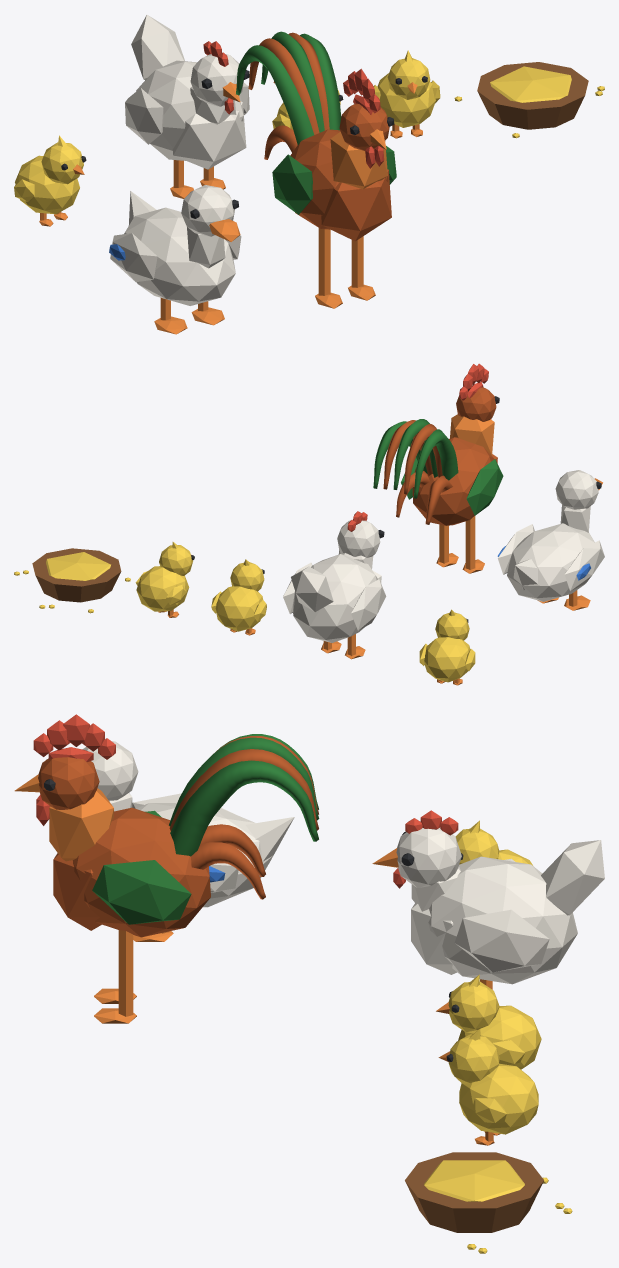
File: low-poly-farm-birds.glb
3 views of the same model, one above another, from view 1: azimuth 30°, elevation 25°; view 2: azimuth 150°, elevation 25°; view 3: azimuth 270°, elevation 25° (orthographic). The views are drawn at different scales.
Visible parts, largest first — view 1: Rooster, Hen, Duck, FeedDish, Chick_A, Chick_B; view 2: Rooster, Hen, Duck, FeedDish, Chick_A, Chick_C, Chick_B; view 3: Rooster, Hen, FeedDish, Chick_B, Duck, Chick_C, Chick_A.
Boxes of the visible parts, bbox=[...] form: Rooster: bbox=[236, 31, 396, 308]; Hen: bbox=[125, 14, 249, 198]; Duck: bbox=[109, 185, 241, 334]; FeedDish: bbox=[454, 62, 604, 138]; Chick_A: bbox=[14, 135, 86, 226]; Chick_B: bbox=[373, 50, 440, 138]; Rooster: bbox=[373, 363, 503, 573]; Hen: bbox=[283, 511, 386, 659]; Duck: bbox=[497, 470, 604, 610]; FeedDish: bbox=[14, 548, 130, 613]; Chick_A: bbox=[419, 609, 475, 685]; Chick_C: bbox=[211, 559, 266, 635]; Chick_B: bbox=[135, 542, 194, 617]; Rooster: bbox=[14, 714, 319, 1023]; Hen: bbox=[372, 810, 604, 989]; FeedDish: bbox=[405, 1152, 572, 1253]; Chick_B: bbox=[438, 1029, 538, 1145]; Duck: bbox=[82, 741, 294, 941]; Chick_C: bbox=[436, 974, 541, 1069]; Chick_A: bbox=[455, 820, 532, 865].
Size of the model in its own units: 8.06 by 3.1 by 5.59.
